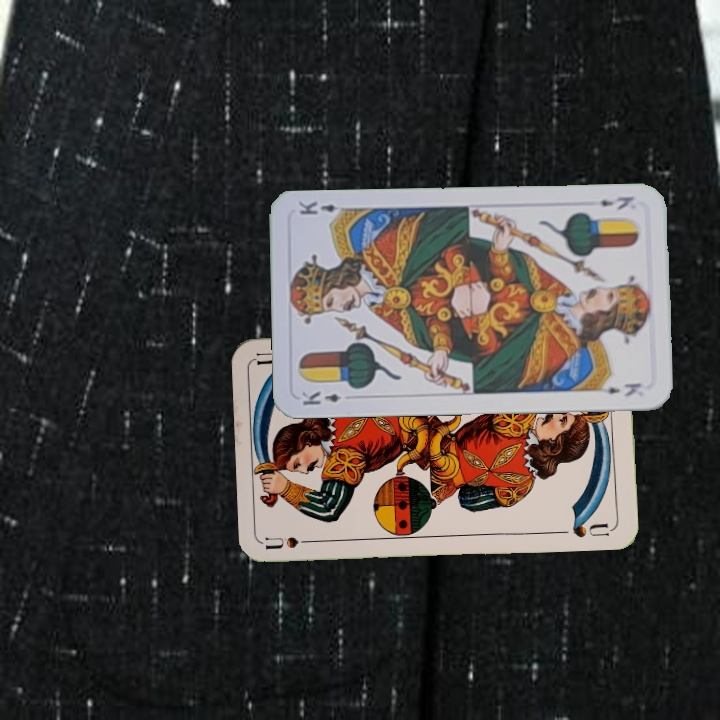EK: (583, 192, 636, 212), (297, 387, 343, 408)
SU: (263, 532, 322, 552)
